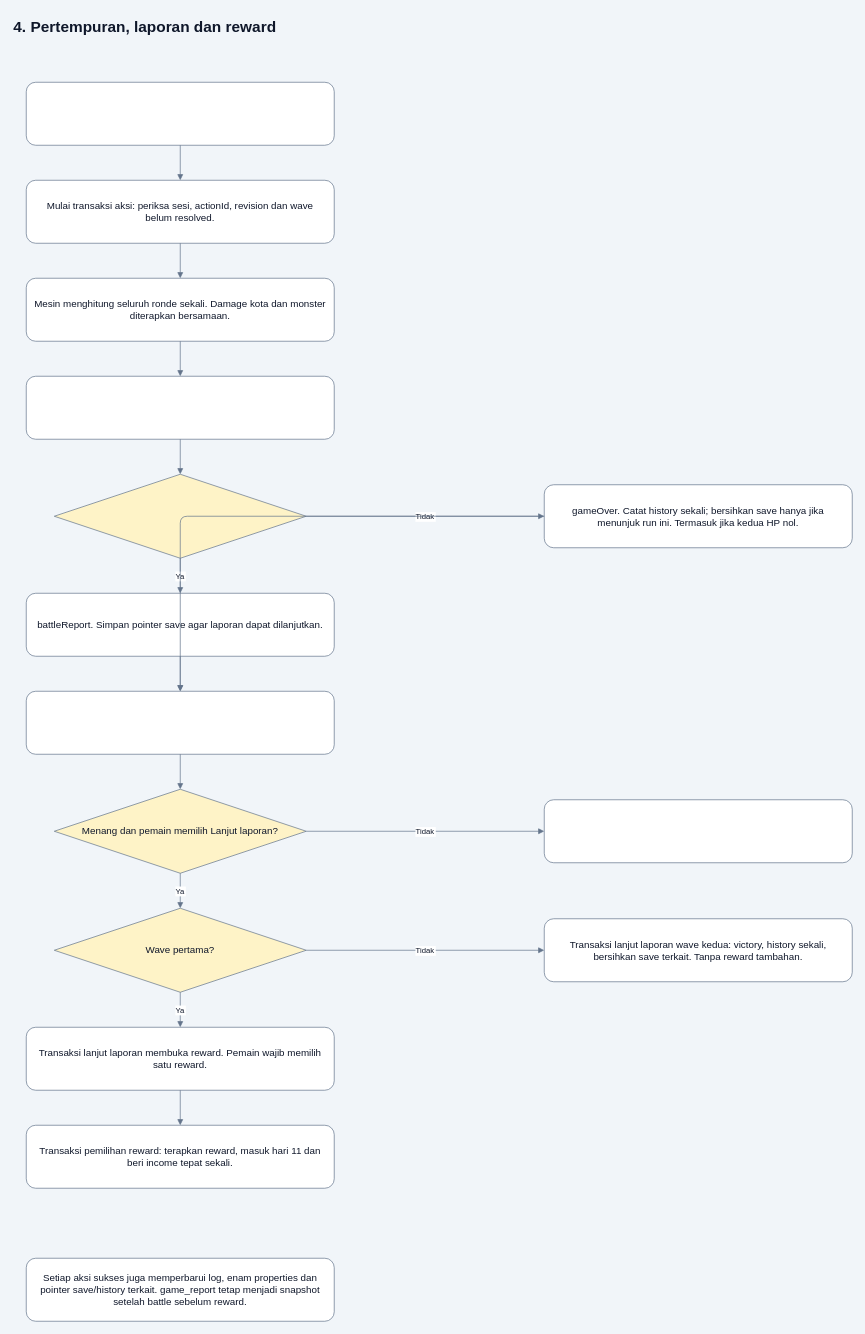
The diagram is 865 pixels wide and 1334 high, and some of its shapes have lost their labels. Here are the shapes that lost their labels. From the top down, the centre of each, then its label:
At (180,113): "Hari 10 / 20: battleReady. Pemain memilih Mulai battle.".
At (180,407): "Tulis game_runs, satu game_actions, enam game_properties dan satu game_report.".
At (180,516): "Kota hidup dan monster kalah?".
At (180,722): "Commit semua perubahan; jika gagal, batalkan semuanya. Baru tampilkan hasil.".
At (698,831): "Tetap membaca laporan atau layar kalah. Membaca hasil tidak memberi damage lagi.".
